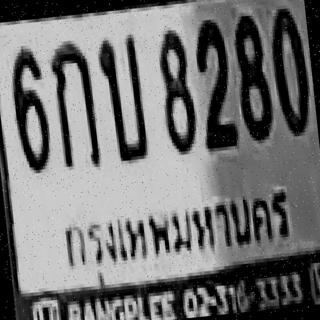A01: (48, 39, 100, 170)
A26: (95, 31, 149, 162)
N00: (266, 4, 314, 138)
N02: (192, 18, 237, 148)
N06: (7, 46, 53, 173)
N08: (231, 11, 274, 142), (154, 26, 198, 153)
P04: (55, 178, 299, 291)
